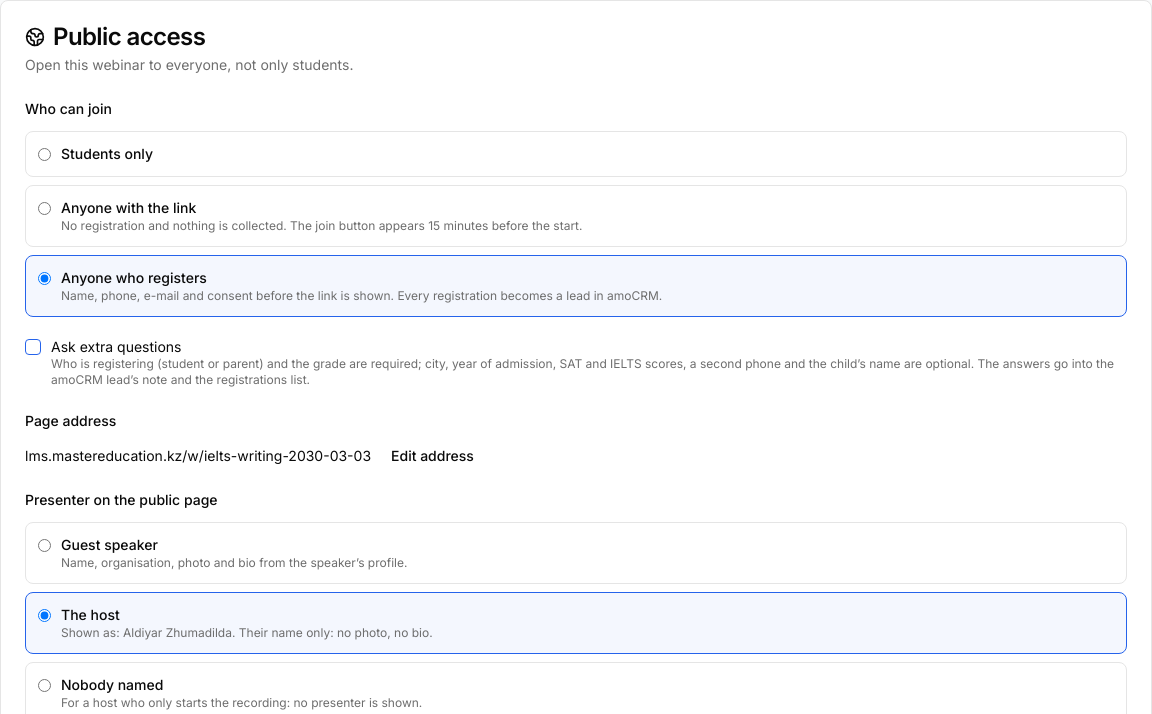
closing public access › reloads the card when the server says closing is no longer allowed (someone registered meanwhile)
Click the radio button labelled "Students only". click: (44, 154)
box: [38,148,51,161]
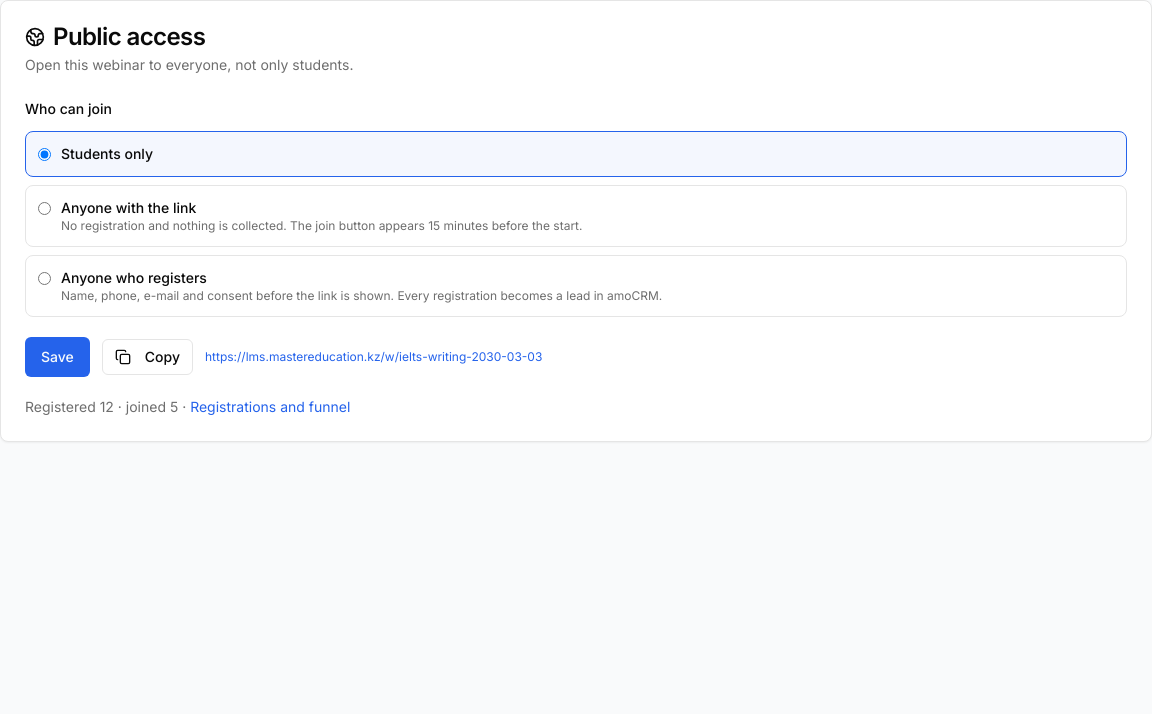
Click the button "Save". click: (57, 357)
box: [25,337,90,377]
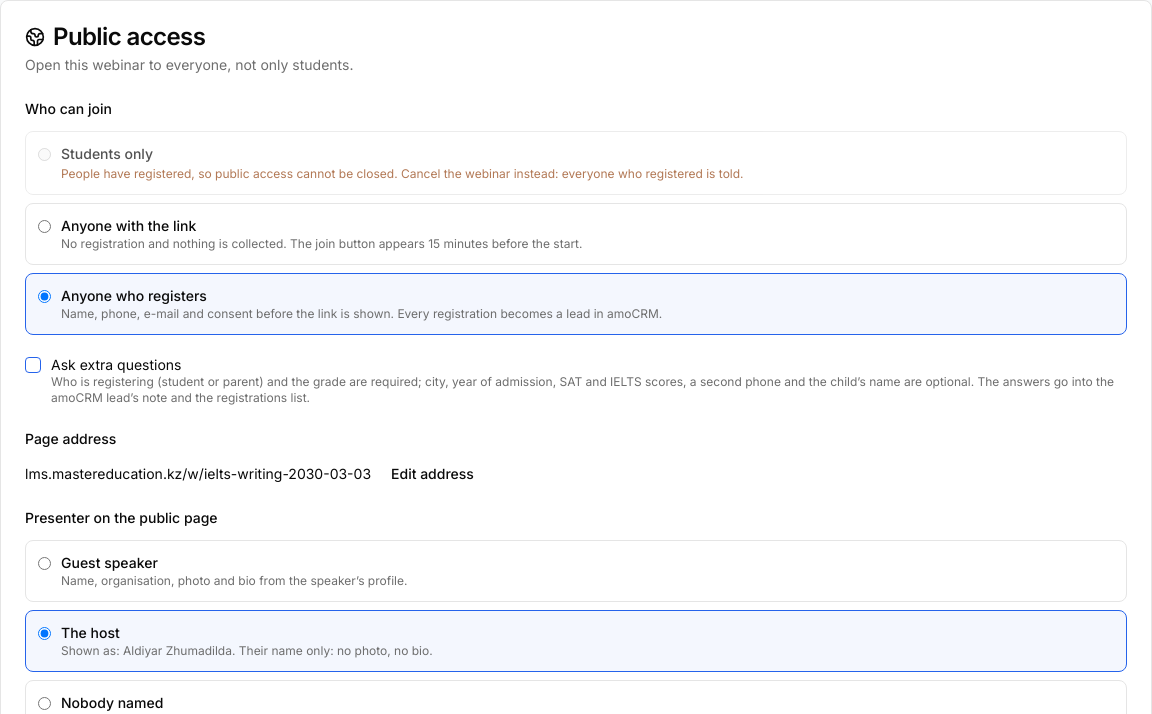
Check: the text "People have registered, so public access cannot be closed." is shown, box [61,166,744,181]
